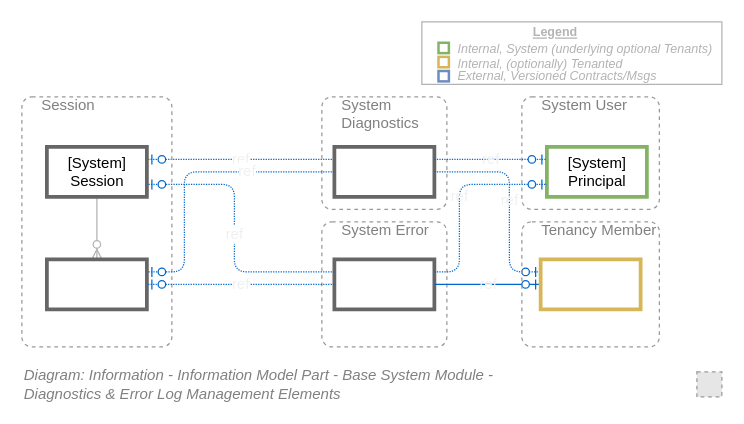
This 744x424 diagram has some shape labels left out. Grey dashed boxes stand in for pictures. Each missing label, with the centre of its shape:
[System] Diagnostics: point (384, 171)
[System] ErrorLog: point (384, 284)
[System] Session Operation: point (96, 284)
Member: point (590, 284)
